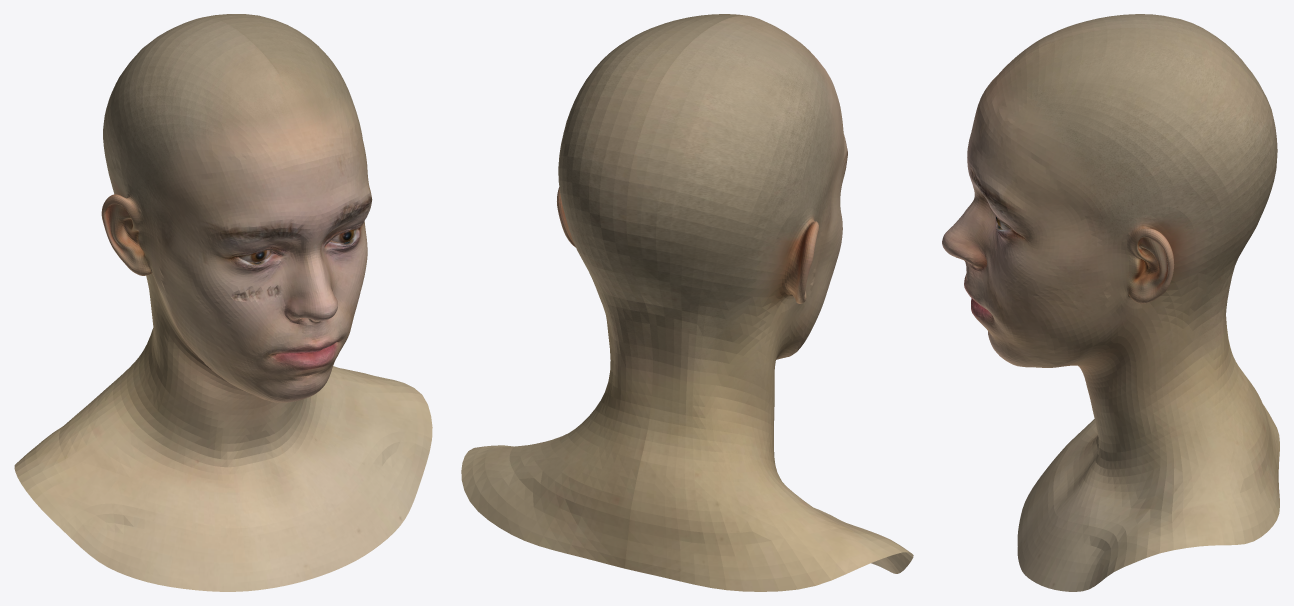
The picture shows the model from 3 angles, left to right: view 1: azimuth 30°, elevation 25°; view 2: azimuth 150°, elevation 25°; view 3: azimuth 270°, elevation 25°; orthographic projection. The views are drawn at different scales.
Visible parts, largest first — view 1: head_lod0_mesh; view 2: head_lod0_mesh; view 3: head_lod0_mesh.
Boxes of the visible parts, box(x1,y1,x2,y2) form: head_lod0_mesh: box(14, 14, 432, 591); head_lod0_mesh: box(461, 14, 913, 591); head_lod0_mesh: box(942, 14, 1279, 591).
Bounding box in the file's own units: 29.88 × 36.91 × 21.83.
5 materials, 4 textured.
